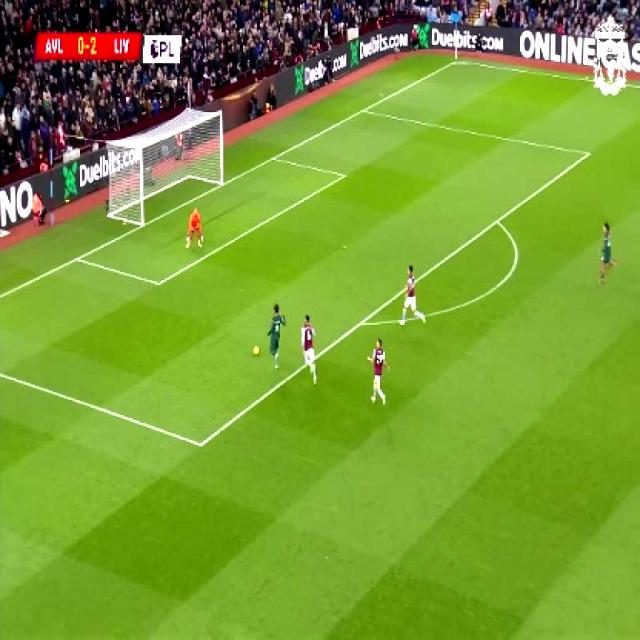bigarea_bottom_inner: (191, 430, 209, 456)
bigarea_top_inner: (580, 142, 595, 163)
bigarea_top_outter: (356, 102, 370, 118)
bottom_arc_area_intersection: (352, 312, 370, 332)
corner: (448, 52, 466, 66)
smallarea_bottom_inner: (148, 269, 166, 294)
smallarea_bottom_outter: (68, 246, 86, 269)
smallarea_top_inner: (336, 165, 350, 183)
smallarea_top_outter: (265, 148, 280, 166)
top_arc_area_intersection: (490, 211, 504, 229)
